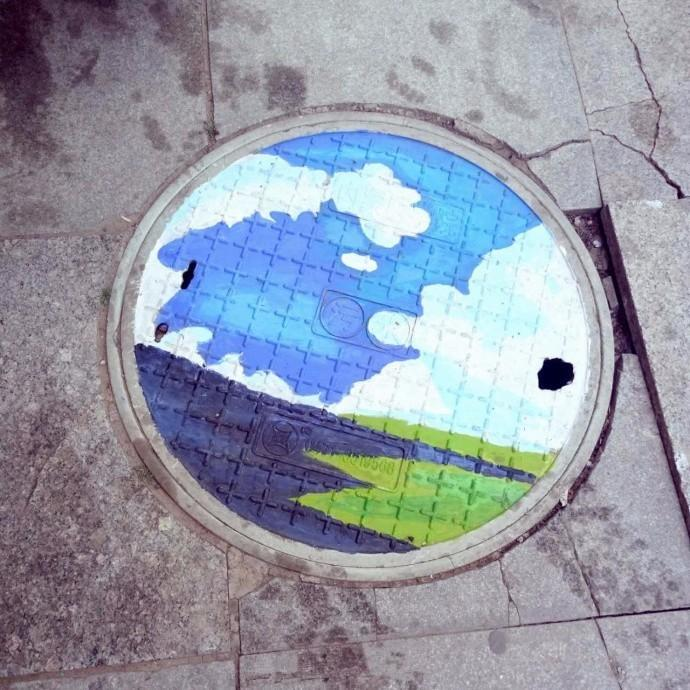wellcover: (102, 97, 641, 581)
